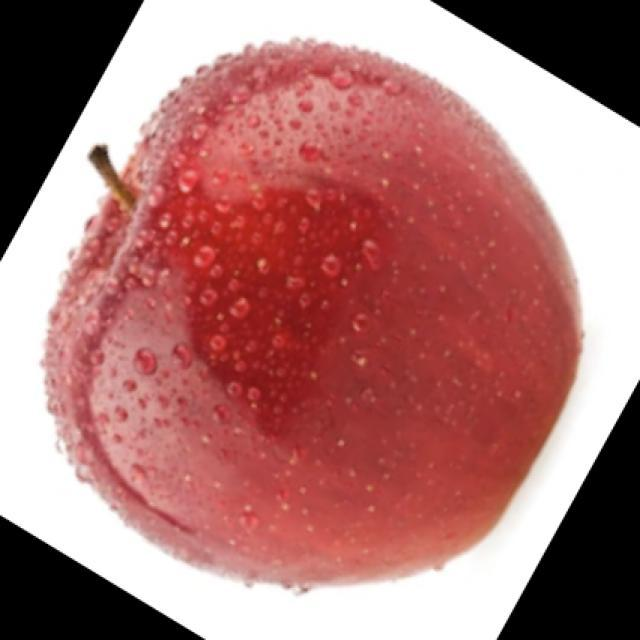Fresh Apple: (44, 34, 586, 600)
